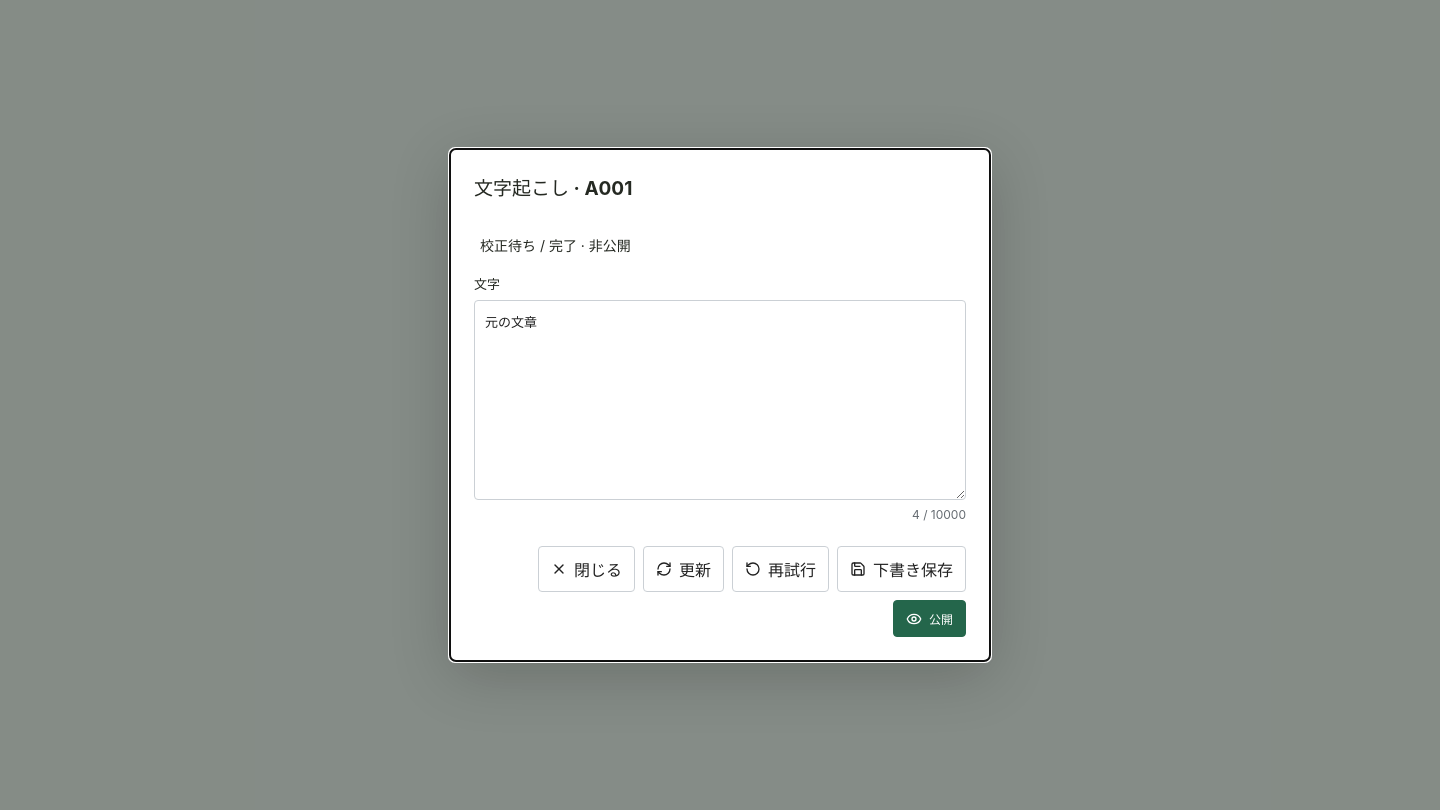
refreshes saved text from the server after a successful save
Replace the text in the text box labelled "文字" with "保存する校正" at (720, 400), box [474,300,966,500]
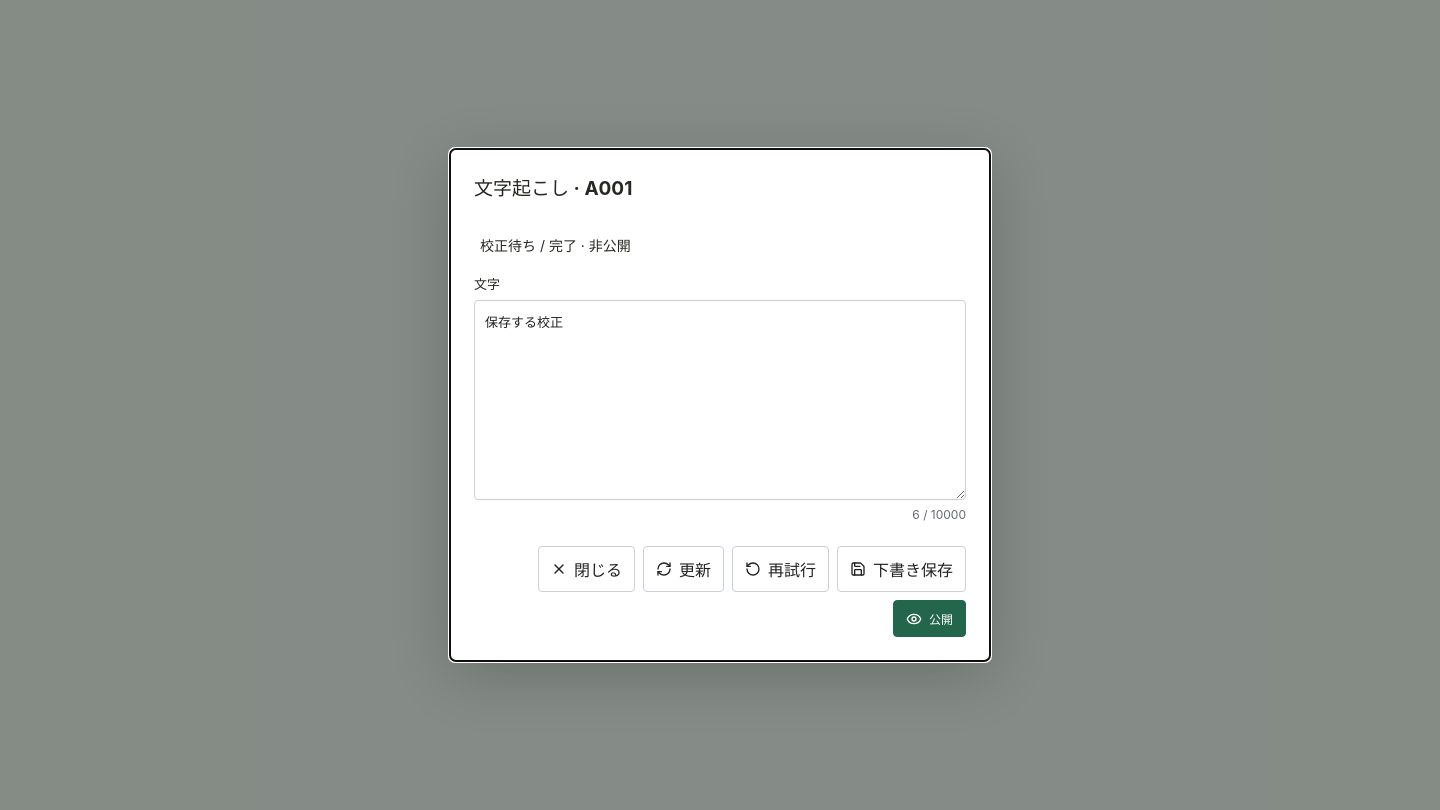
Click the button "下書き保存".
click(902, 569)  # box [837,546,966,592]
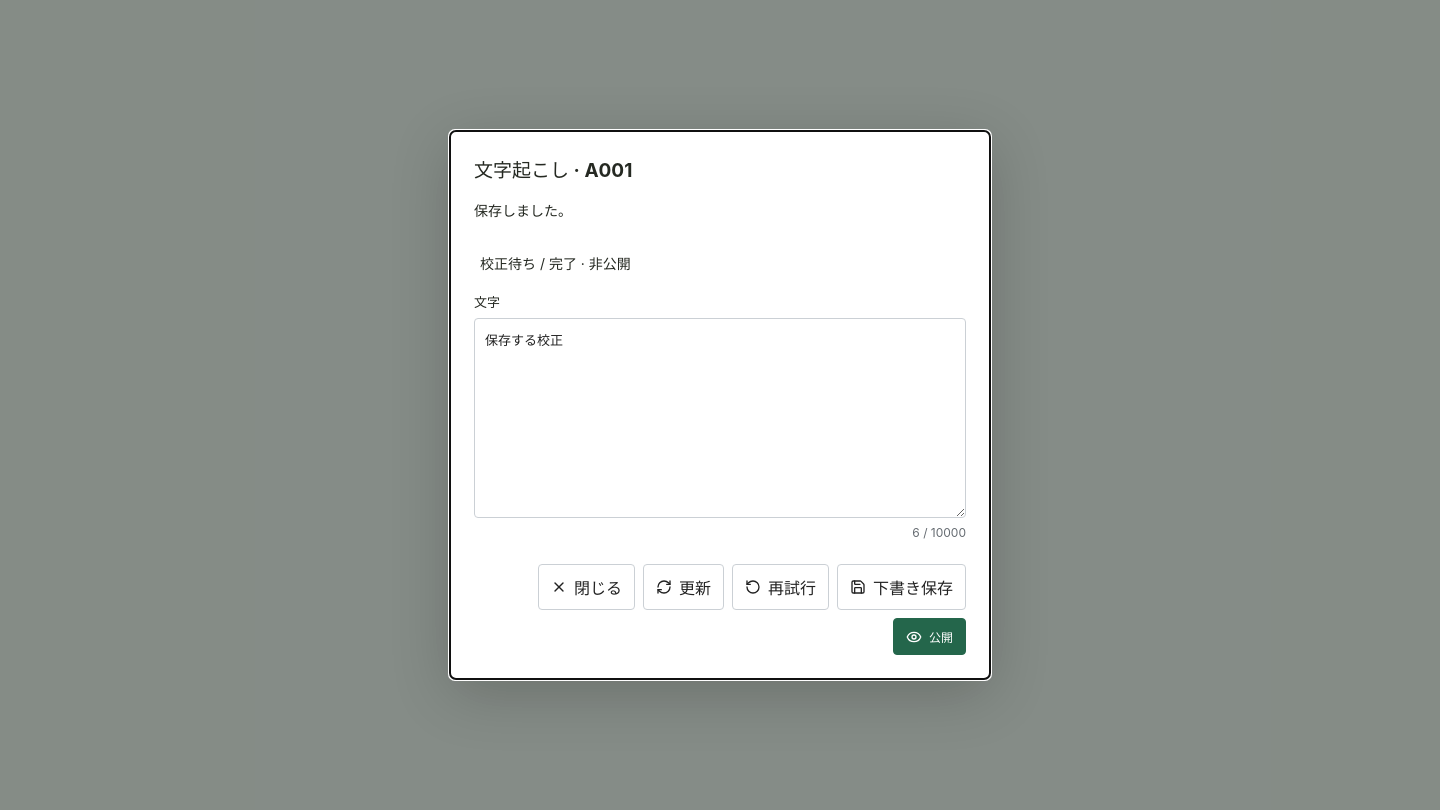
Result: the text "保存しました。" is shown at [474,202,572,219]
Click the button "更新".
click(684, 587)  # box [643,564,724,610]
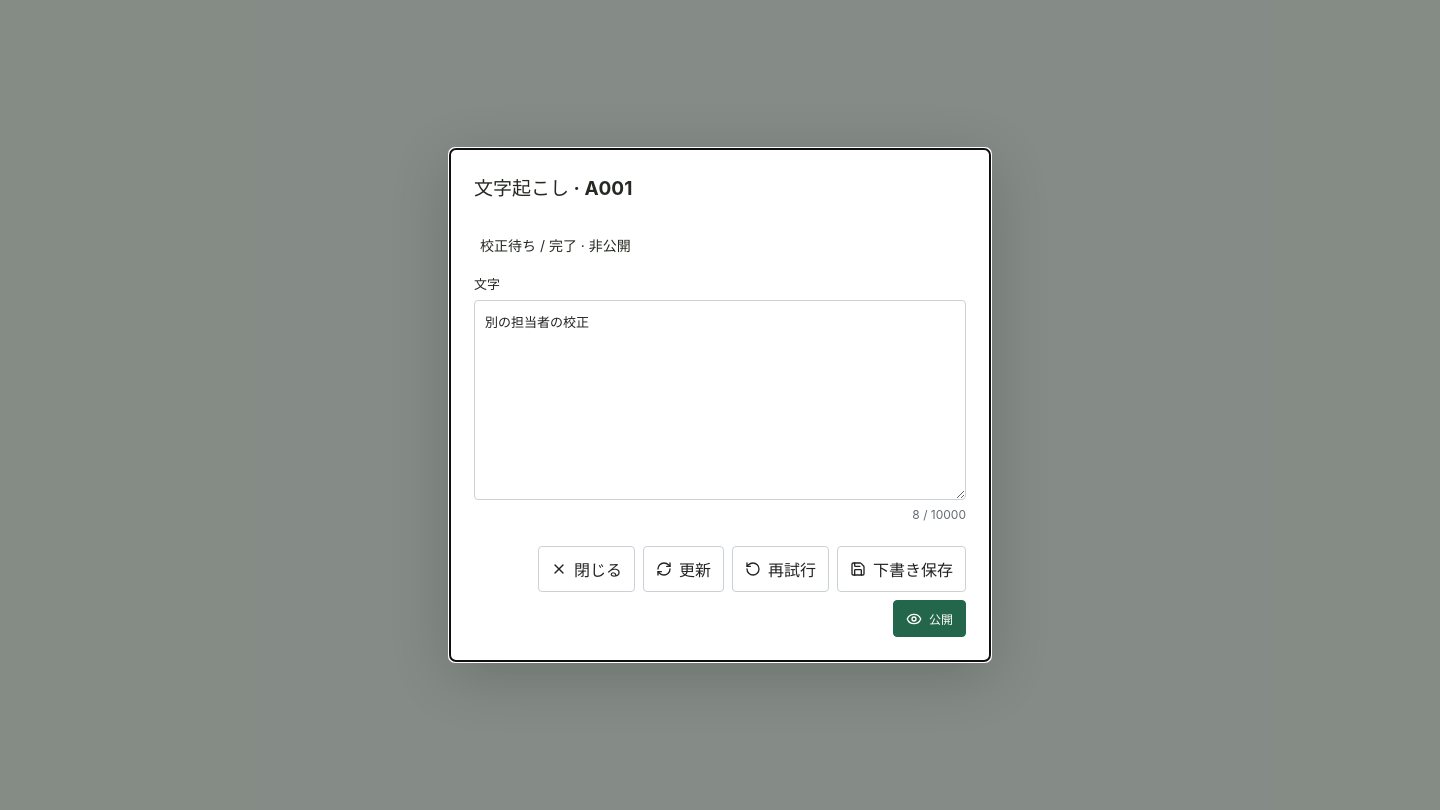
Result: the text box labelled "文字" holds "別の担当者の校正" at [474,300,966,500]
